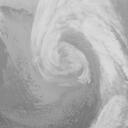cyclone: (30, 1, 126, 84)
